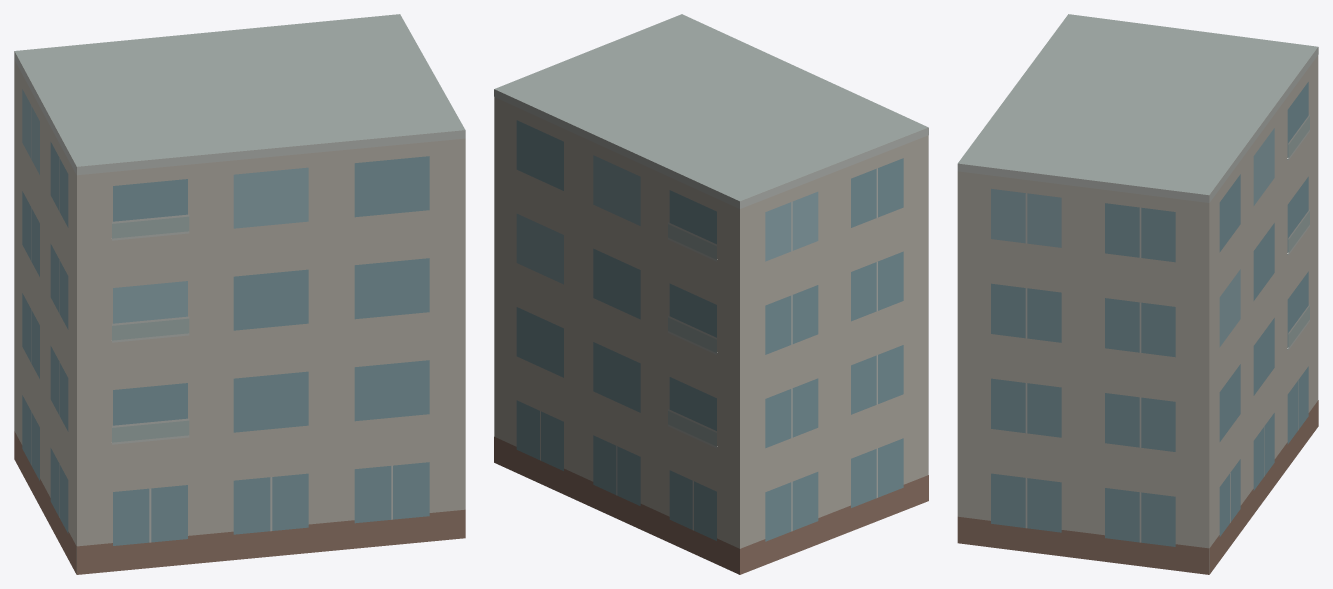
The model's file is survey-upis-32898382.glb.
The picture shows the model from 3 angles, left to right: view 1: azimuth 30°, elevation 25°; view 2: azimuth 150°, elevation 25°; view 3: azimuth 270°, elevation 25°; orthographic projection. The views are drawn at different scales.
Visible parts, largest first — view 1: survey-upis-32898382.tmp; view 2: survey-upis-32898382.tmp; view 3: survey-upis-32898382.tmp.
Part boxes in pixels (x1,y1,x2,y2): survey-upis-32898382.tmp: (14, 14, 465, 574); survey-upis-32898382.tmp: (494, 14, 928, 574); survey-upis-32898382.tmp: (957, 14, 1318, 574).
Bounding box in the file's own units: 12.09 × 11.8 × 10.18.
